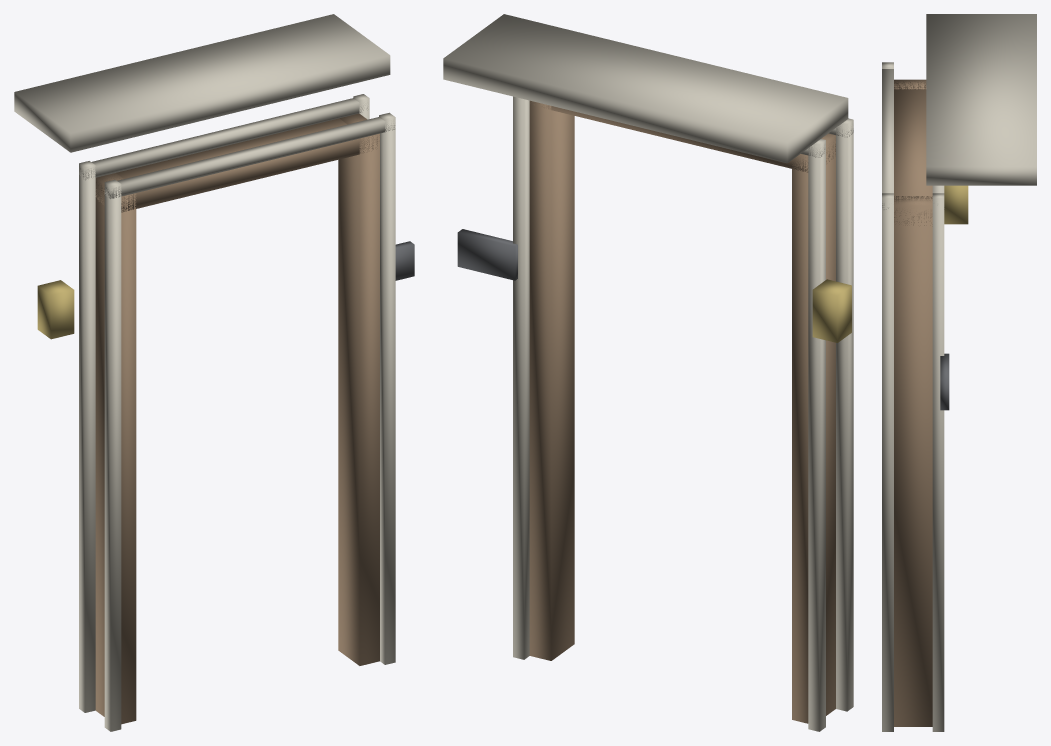
Rendered from doorway_motel_w96_h210_d16.glb.
3 views of the same model, side by side, from view 1: azimuth 30°, elevation 25°; view 2: azimuth 150°, elevation 25°; view 3: azimuth 270°, elevation 25° (orthographic). The views are drawn at different scales.
Parts seen in each view (by area): view 1: world; view 2: world; view 3: world.
Boxes of the visible parts, box(x1,y1,x2,y2) form: world: box(14, 14, 414, 731); world: box(443, 14, 853, 731); world: box(882, 14, 1036, 731).
Size of the model in its own units: 1.56 by 2.41 by 0.5882.
